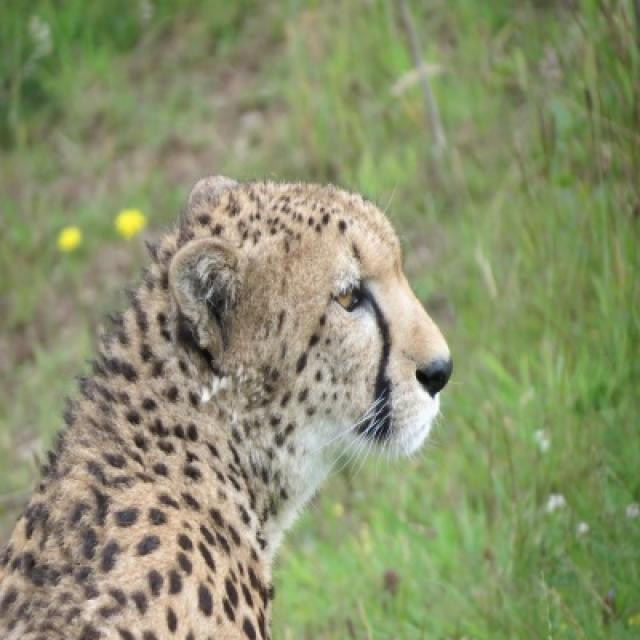Cheetah: (0, 174, 453, 638)
